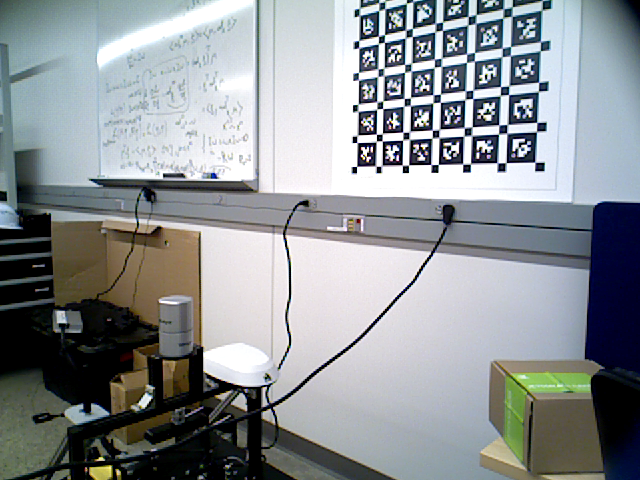painting4: (335, 1, 571, 203)
